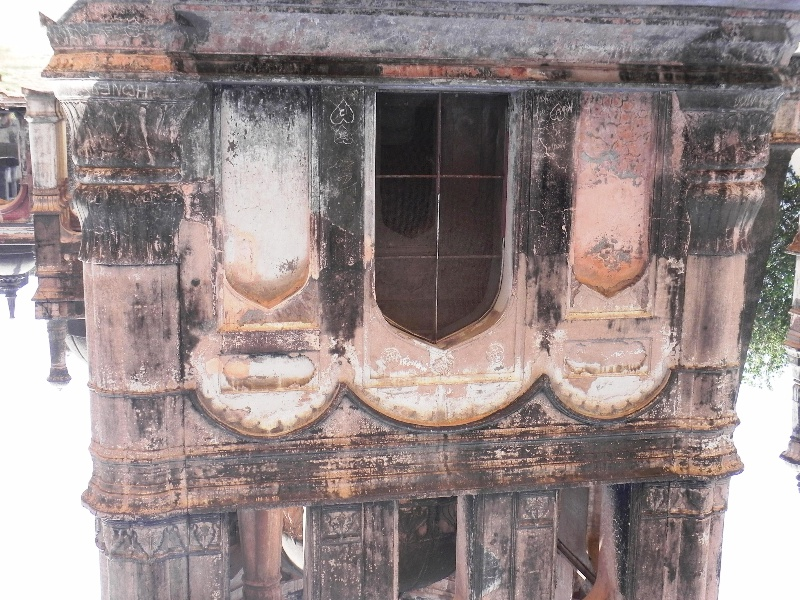Spalling: (586, 233, 636, 278)
